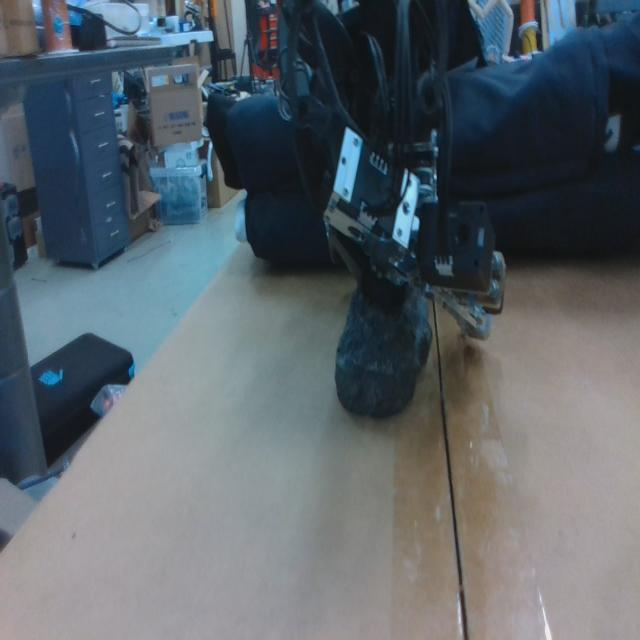stone: (334, 265, 434, 422)
